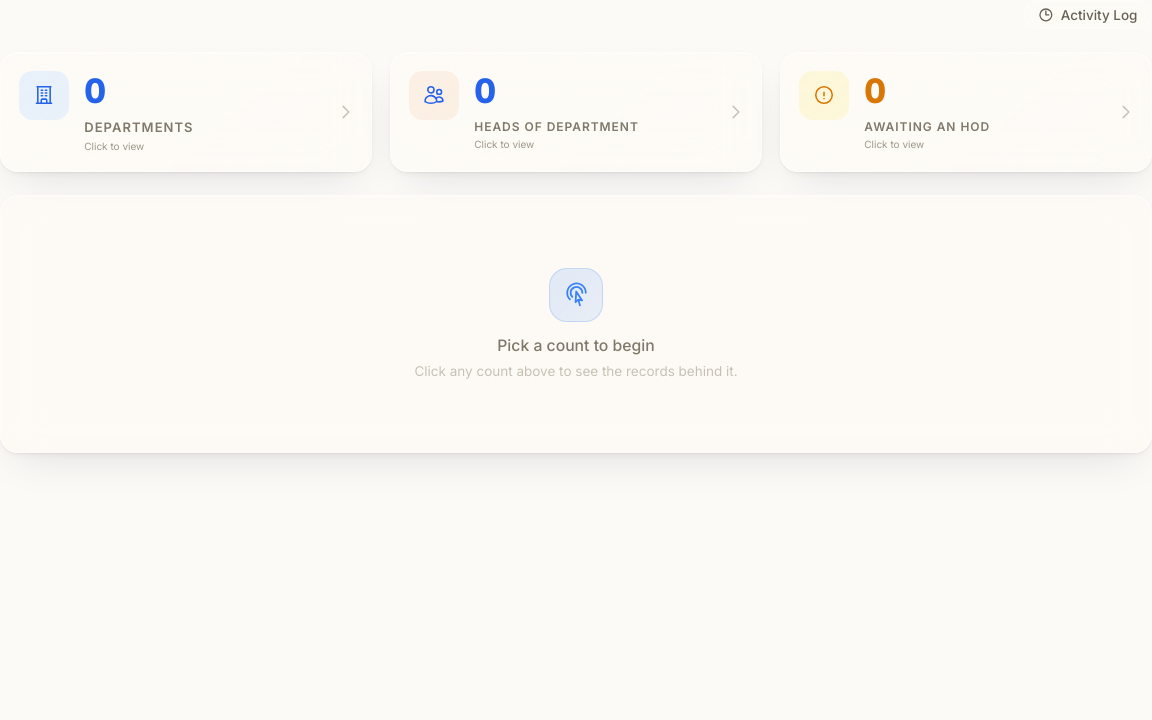
Test: AdminPanel â€” add department › surfaces a database error without clearing the form
The width and height of the screenshot is (1152, 720).
Click the button "0 Departments Click to view" at {"x": 44, "y": 95}, box [0,52,372,172]
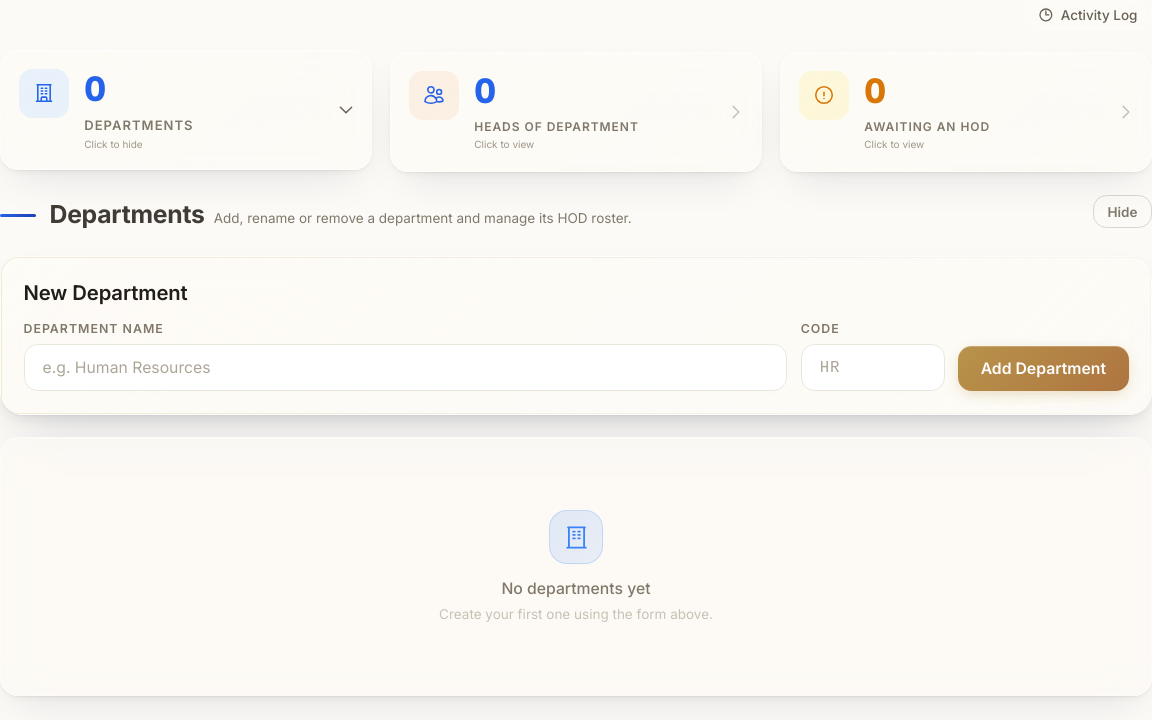
Type "Finance" into the field labelled "Department Name" at {"x": 405, "y": 368}, box [24,344,787,391]
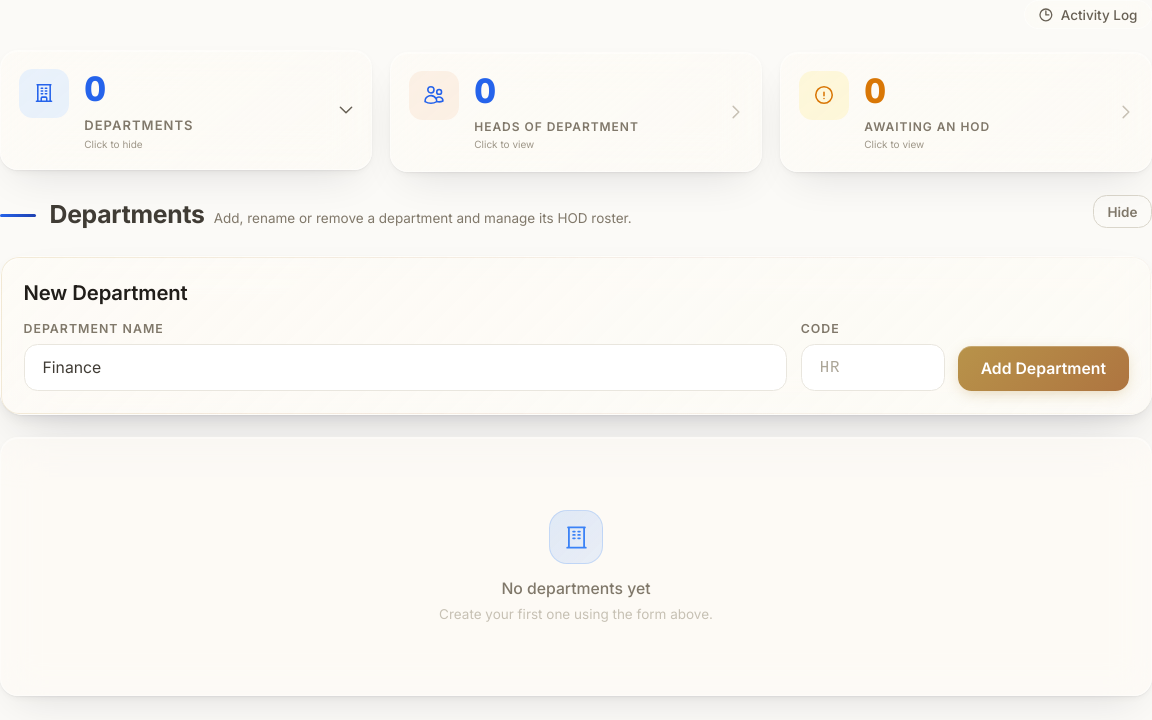
Type "FIN" into the field labelled "Code" at {"x": 873, "y": 368}, box [801,344,945,391]
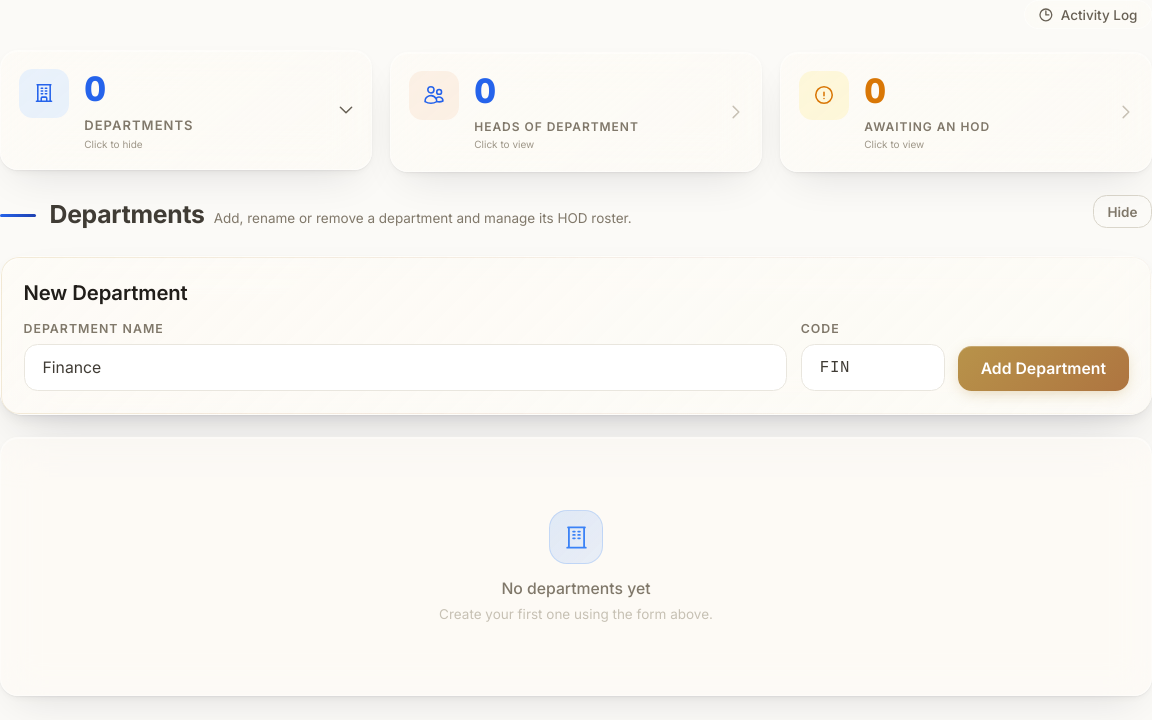
Click the button "Add Department" at {"x": 1043, "y": 369}, box [958,346,1128,391]
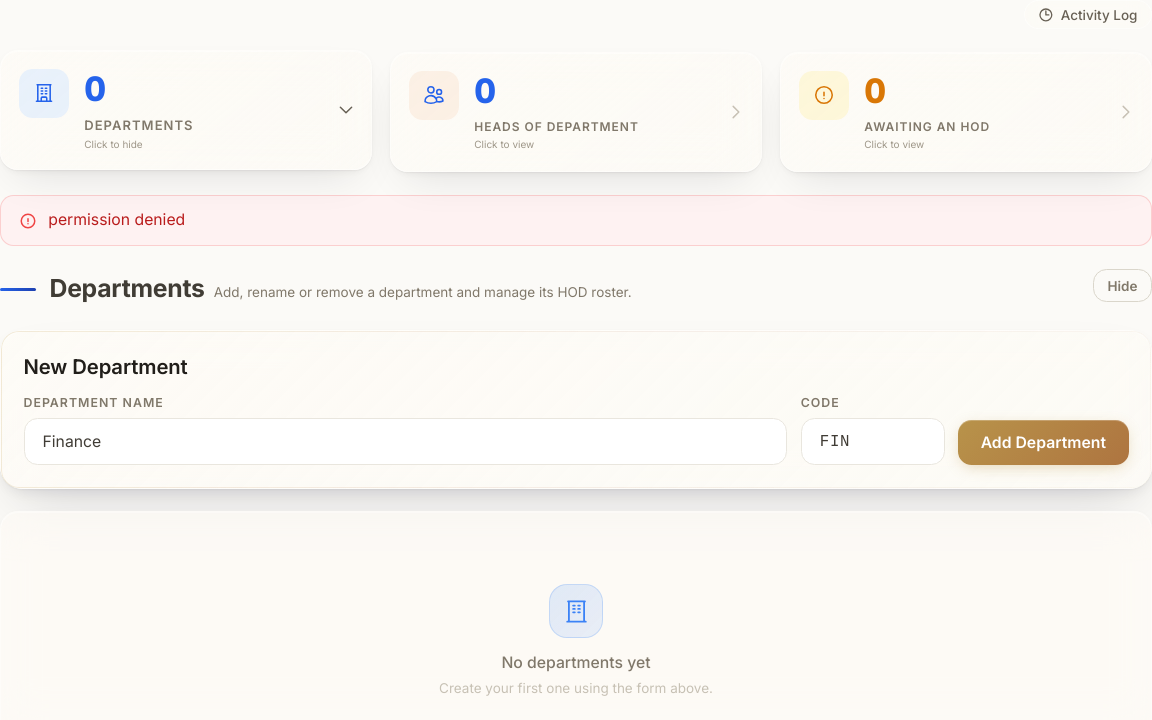
Expected: the text "permission denied" is shown, [0,195,1151,246]
